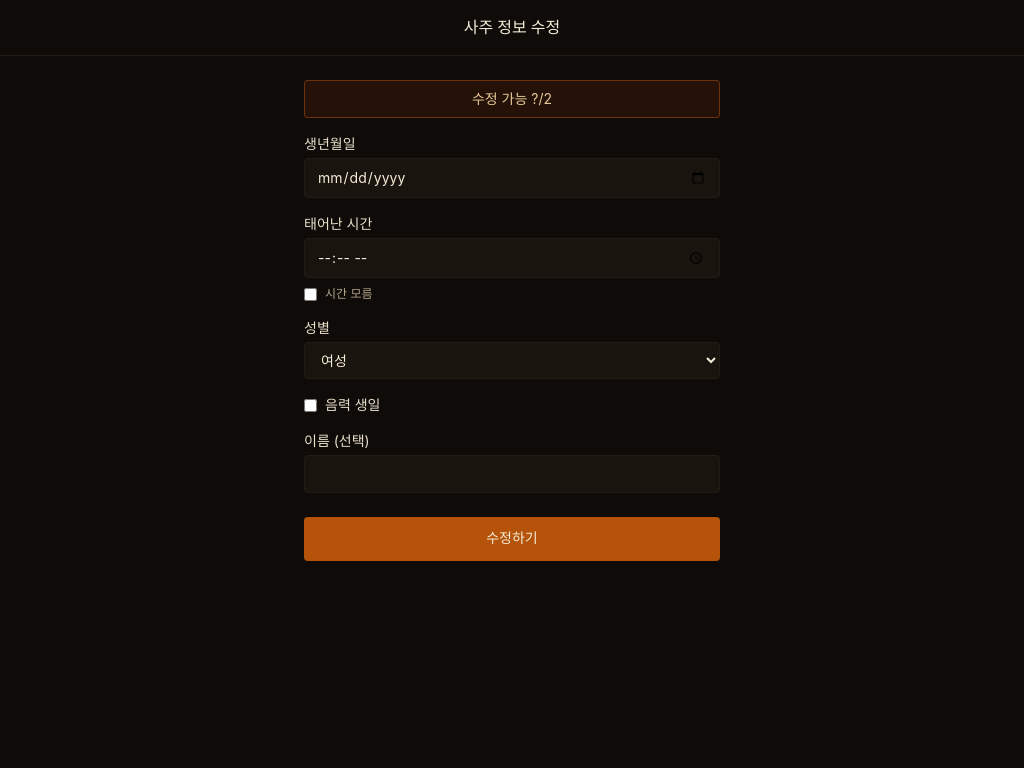
MeEditSajuPage › time-unknown checkbox disables the time input
The width and height of the screenshot is (1024, 768).
Expected: the element with test id "me-edit-saju-loaded" is shown, top-left (288, 56), bottom-right (736, 767)
Expected: the time field with test id "me-edit-saju-input-time" is enabled, top-left (304, 238), bottom-right (720, 278)
Click the checkbox with test id "me-edit-saju-input-time-unknown" at (310, 294), box top-left (304, 288), bottom-right (317, 300)
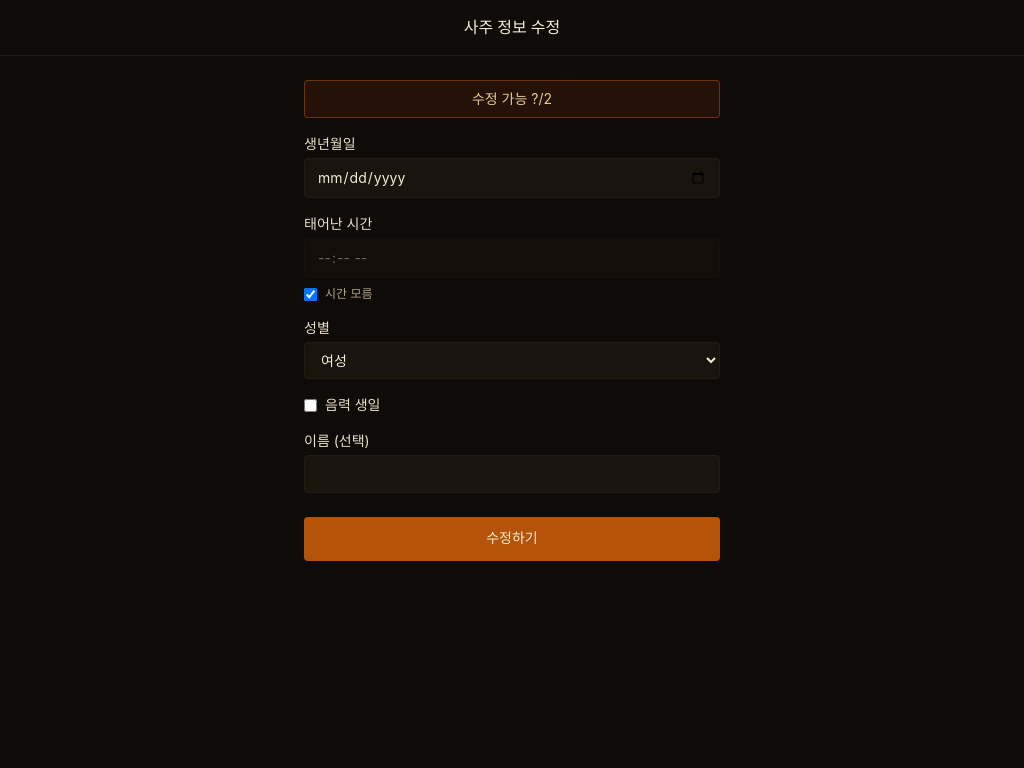
Now the time field with test id "me-edit-saju-input-time" is disabled, box top-left (304, 238), bottom-right (720, 278)
